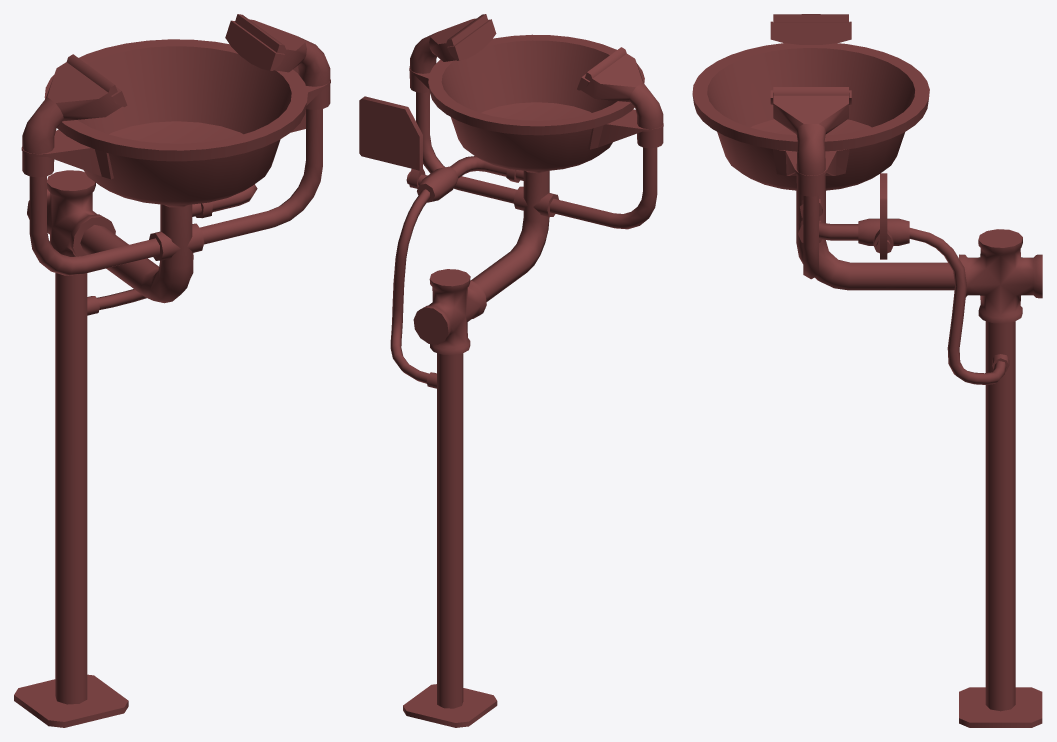
File: eyewasher.glb
3 renders of one model, left to right at view 1: azimuth 30°, elevation 25°; view 2: azimuth 150°, elevation 25°; view 3: azimuth 270°, elevation 25°, orthographic. The views are drawn at different scales.
Visible parts, largest first — view 1: SM_Eye_Wash_Station_01a; view 2: SM_Eye_Wash_Station_01a; view 3: SM_Eye_Wash_Station_01a.
Boxes of the visible parts, left/top/right/bottom form: SM_Eye_Wash_Station_01a: left=14, top=14, right=330, bottom=727; SM_Eye_Wash_Station_01a: left=359, top=14, right=663, bottom=727; SM_Eye_Wash_Station_01a: left=692, top=14, right=1042, bottom=727.
Size of the model in its own units: 0.5702 by 1.22 by 0.5877.
